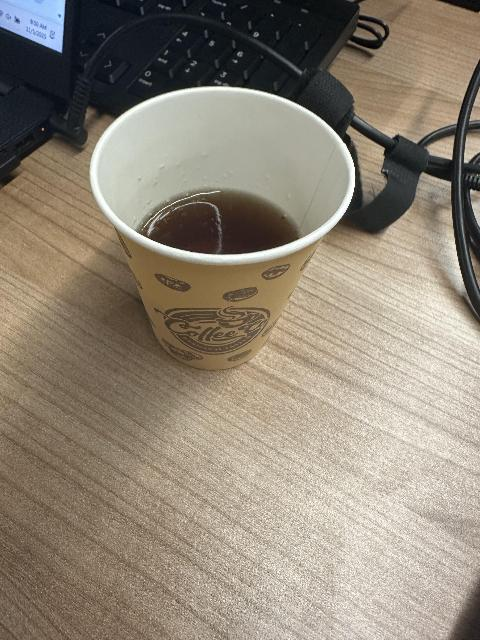Kagit: (94, 84, 360, 379)
